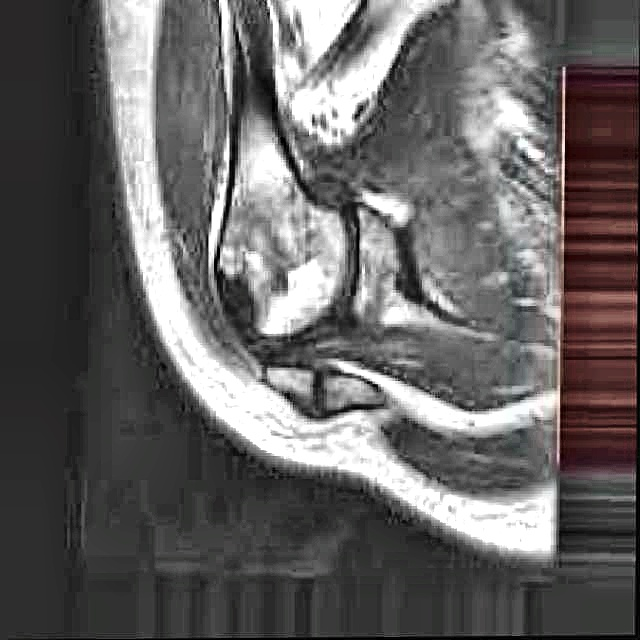Comminuted: (205, 266, 286, 363)
